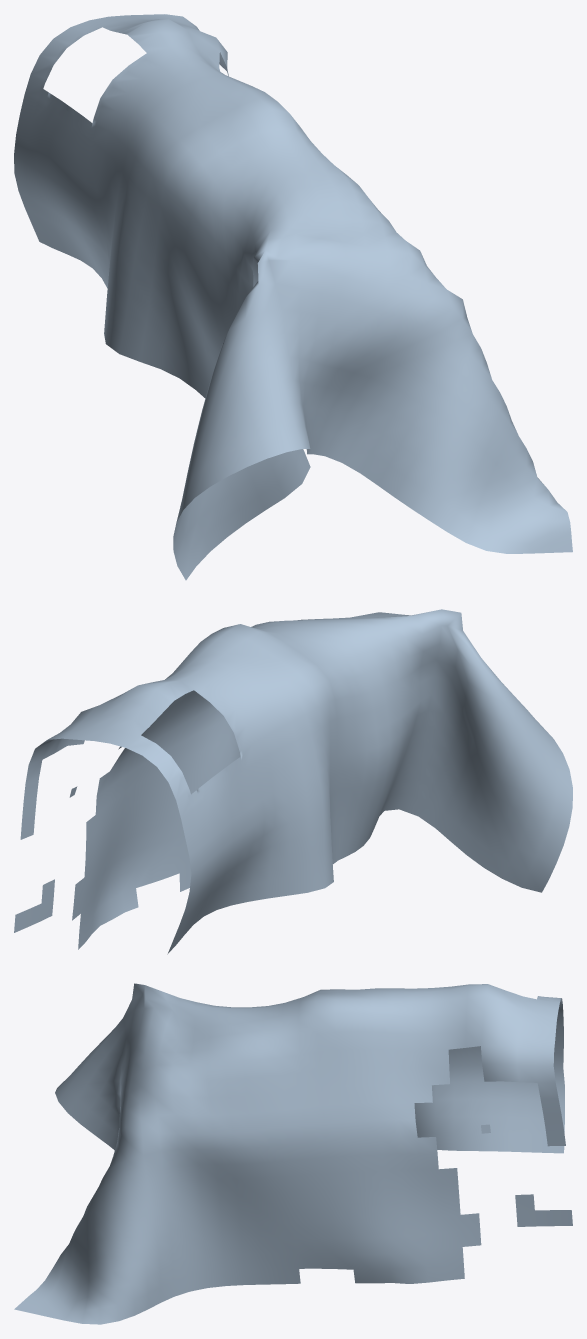
File: cloth_updated.glb
3 views of the same model, one above another, from view 1: azimuth 30°, elevation 25°; view 2: azimuth 150°, elevation 25°; view 3: azimuth 270°, elevation 25° (orthographic). The views are drawn at different scales.
Parts seen in each view (by area): view 1: cloth; view 2: cloth; view 3: cloth.
Boxes of the visible parts, x1,y1,x2,y2 form: cloth: [14, 14, 572, 580]; cloth: [14, 609, 572, 954]; cloth: [14, 983, 572, 1324].
Bounding box in the file's own units: 134 × 116 × 215.
